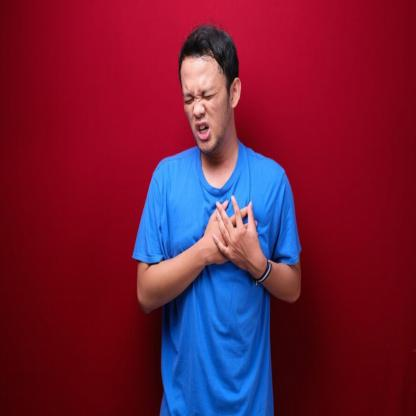pain: (182, 82, 219, 109)
